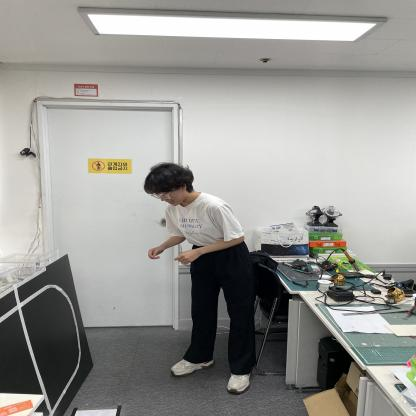normal: (145, 153, 259, 396)
